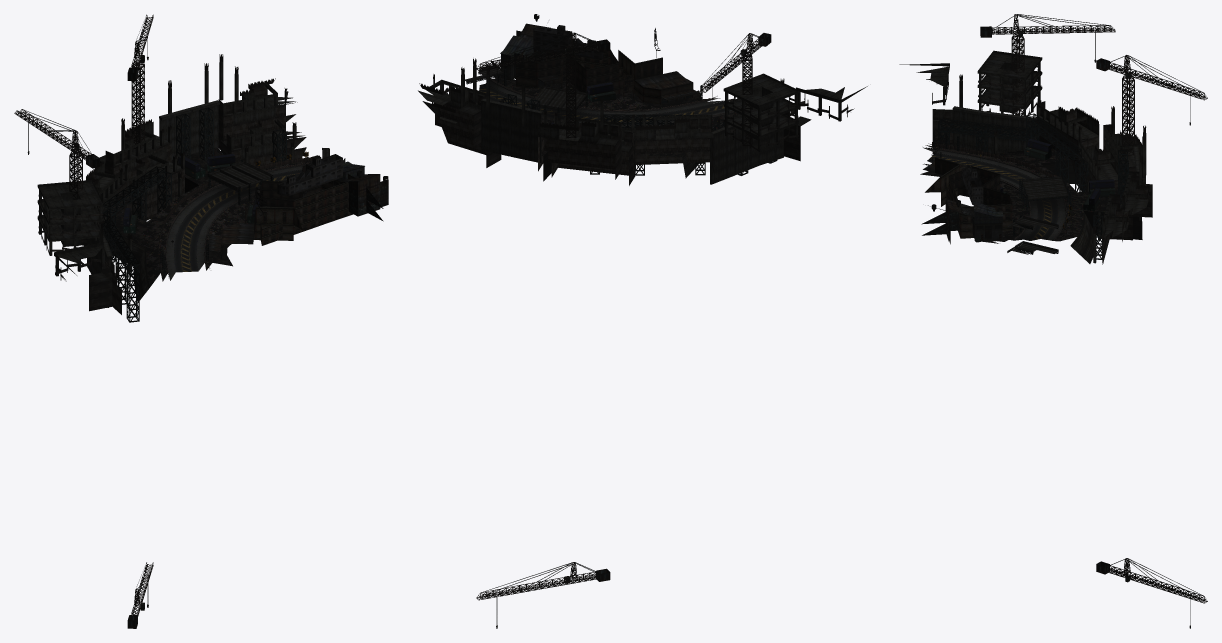
File: cell_15_-5.gltf
The picture shows the model from 3 angles, left to right: view 1: azimuth 30°, elevation 25°; view 2: azimuth 150°, elevation 25°; view 3: azimuth 270°, elevation 25°; orthographic projection. The views are drawn at different scales.
Visible parts, largest first — view 1: cell_15_-5; view 2: cell_15_-5; view 3: cell_15_-5.
Part boxes in pixels (left/top/right/bottom): cell_15_-5: left=14, top=14, right=388, bottom=628; cell_15_-5: left=418, top=14, right=867, bottom=628; cell_15_-5: left=899, top=14, right=1207, bottom=628.
Size of the model in its own units: 208 by 349 by 177.
Materials: 38 (38 with a texture image).
